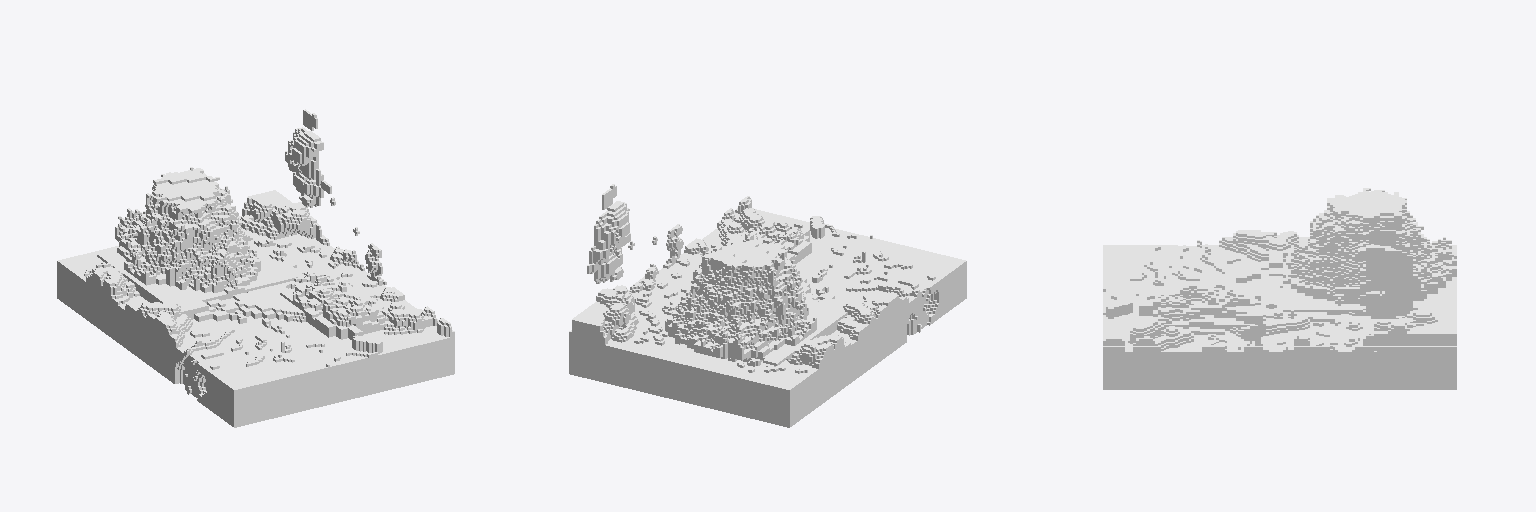
Rendered from Lava_stuff-40.obj.
The picture shows the model from 3 angles: view 1: azimuth 30°, elevation 25°; view 2: azimuth 150°, elevation 25°; view 3: azimuth 270°, elevation 25°; orthographic projection.
Visible parts, largest first — view 1: object 1; view 2: object 1; view 3: object 1.
Part boxes in pixels (x1,y1,x2,y2): object 1: (57, 109, 454, 427); object 1: (569, 184, 966, 427); object 1: (1103, 188, 1456, 389).
Size of the model in its own units: 18.4 by 12.8 by 25.6.